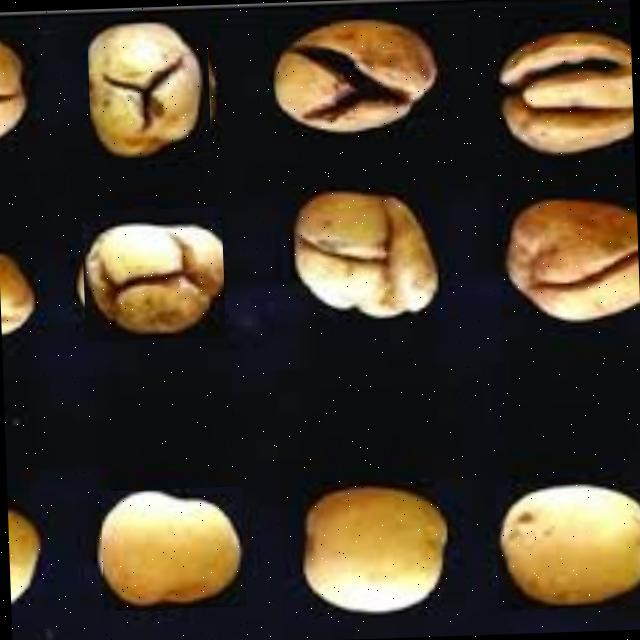Damaged potato: (269, 15, 440, 136), (288, 188, 440, 324), (80, 205, 224, 341), (500, 194, 638, 327), (85, 12, 210, 158)
Potato: (296, 482, 452, 620), (494, 478, 640, 609), (99, 485, 245, 610)
